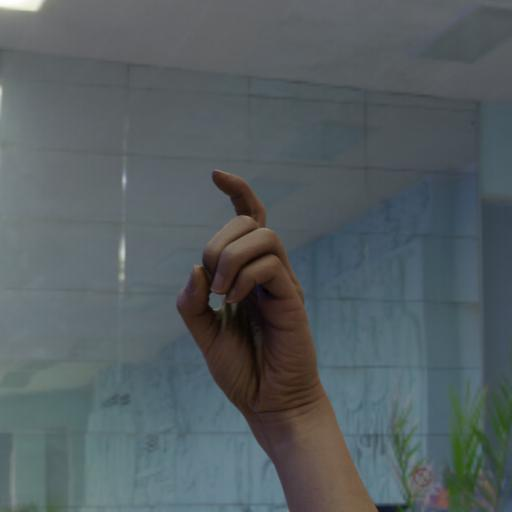X: (171, 164, 321, 421)
